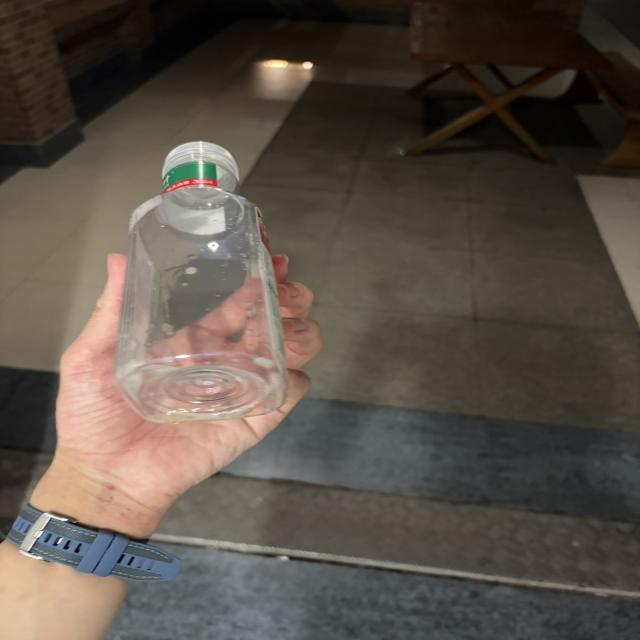empty: (115, 141, 287, 423)
